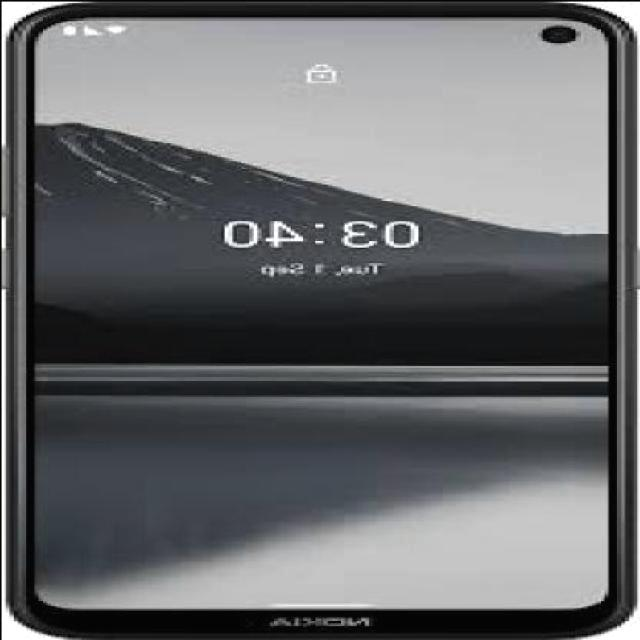phone: (4, 4, 636, 636)
